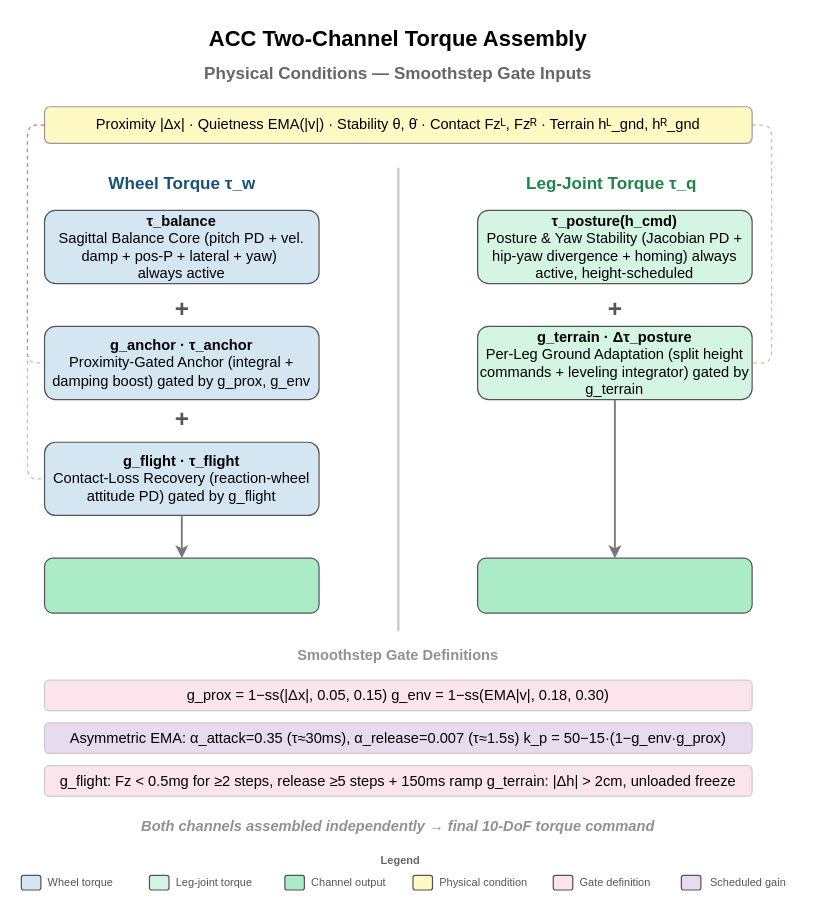
Image size: 827x913. Some labels were removed from this diagram. Each missing label, with the centre of its shape:
"τ_q = τ_post + g_terr·Δτ_post" goes at [614,585].
"τ_w = τ_bal + g_anc·τ_anc + g_flt·τ_flt" goes at [181,585].
